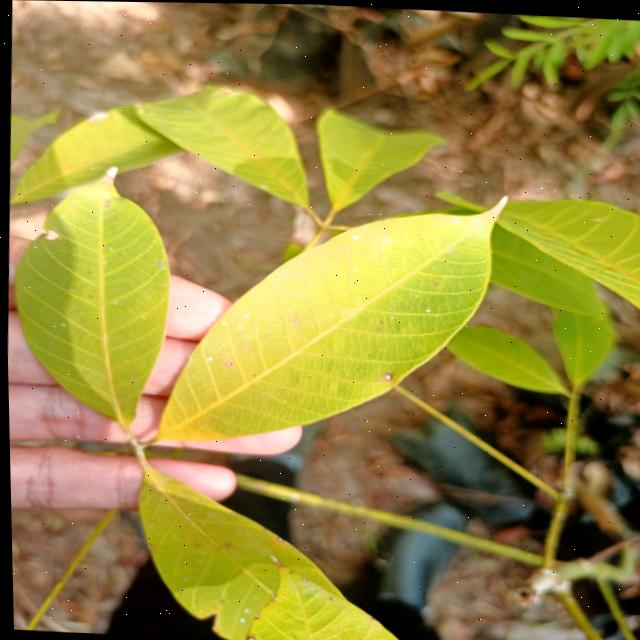Colletotrichum: (380, 372, 388, 379), (250, 613, 255, 618), (223, 361, 229, 365), (292, 317, 296, 321)
Leaf-Blight: (266, 553, 280, 566)
